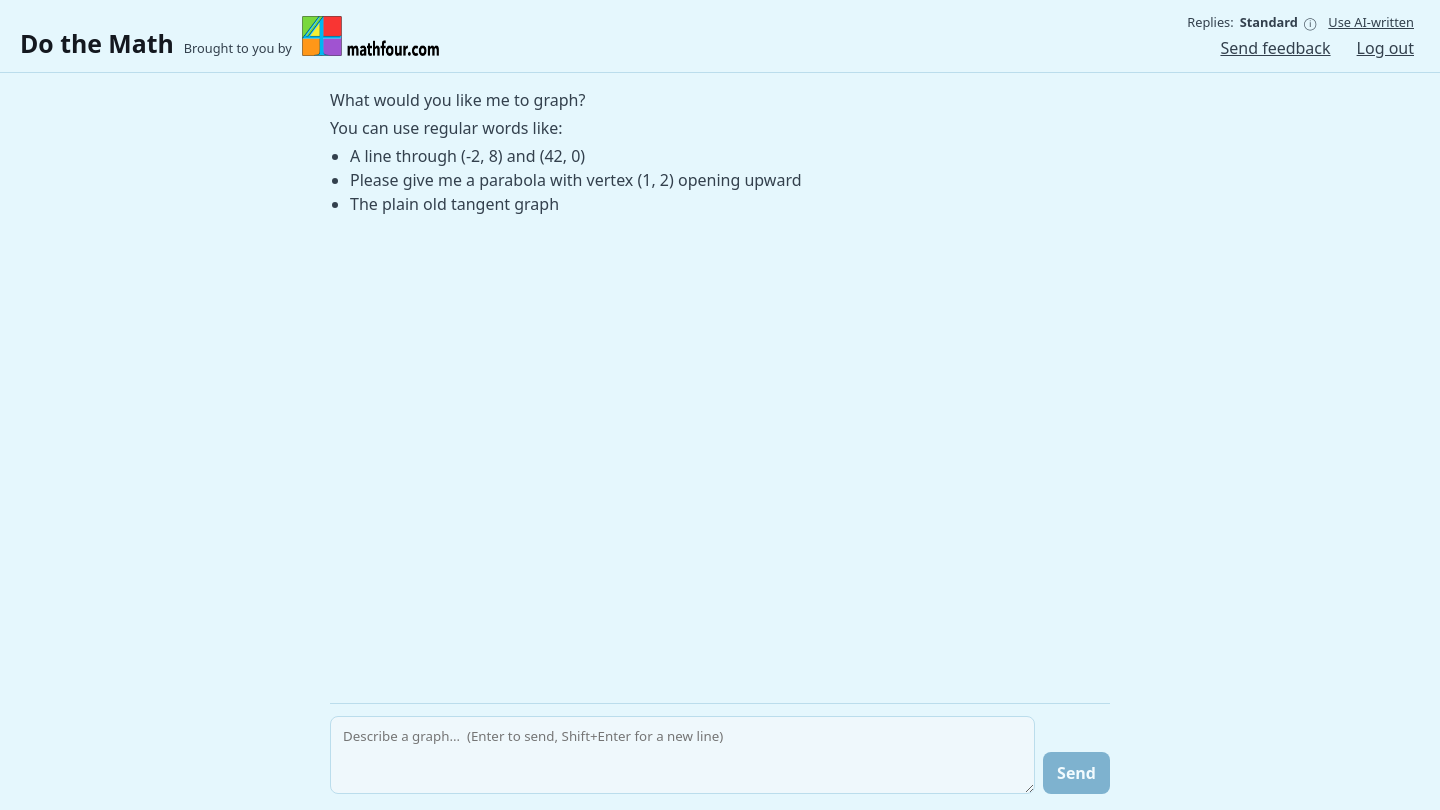
Scenario: App key gate › opens the reply-wording info popover on click and closes it again
The width and height of the screenshot is (1440, 810).
Click the button named "what does this mean": [1310, 23] box [1304,17,1316,29]
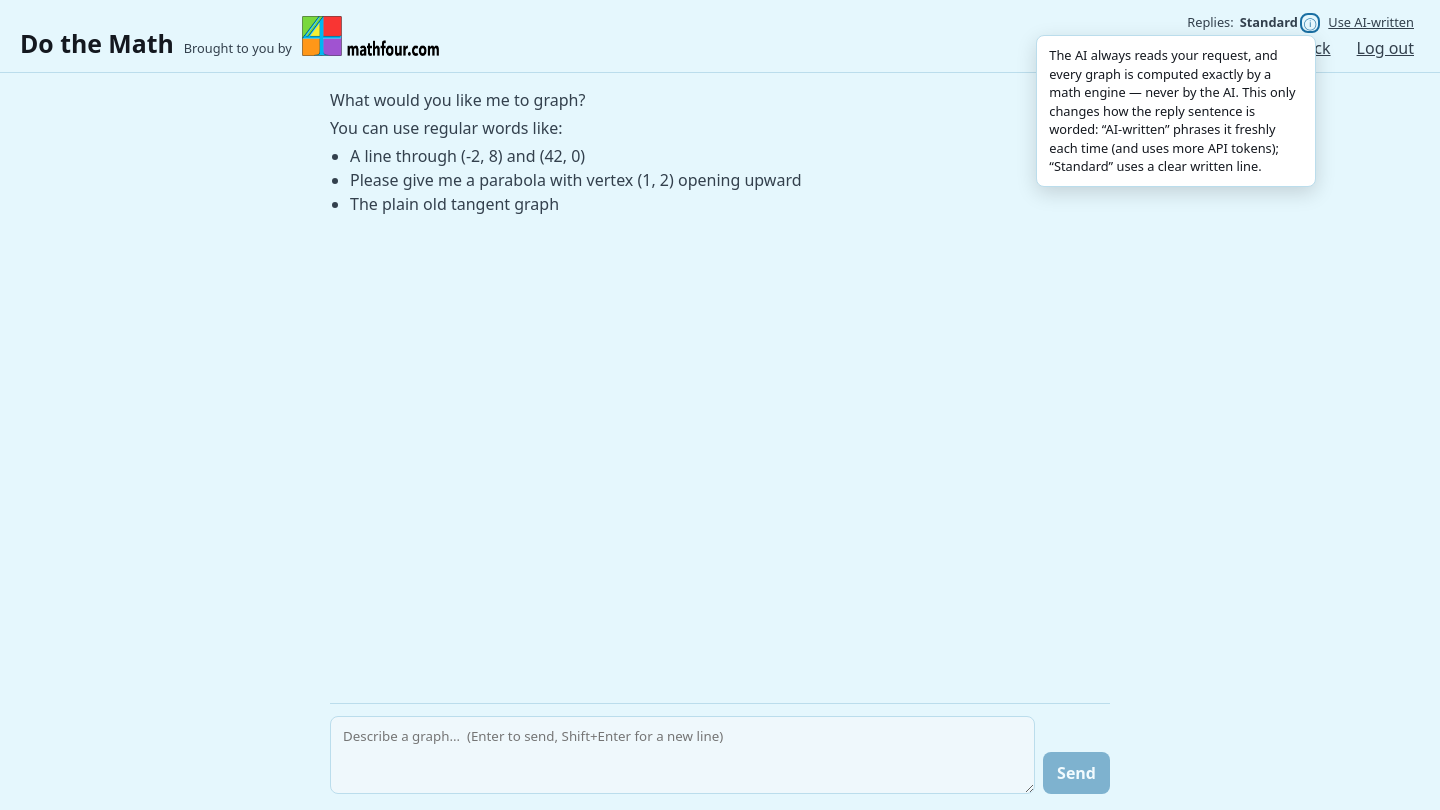
Now the tooltip shows "computed exactly", box [1049,46,1296,176]
Click the button named "what does this mean": [1310, 23] box [1304,17,1316,29]
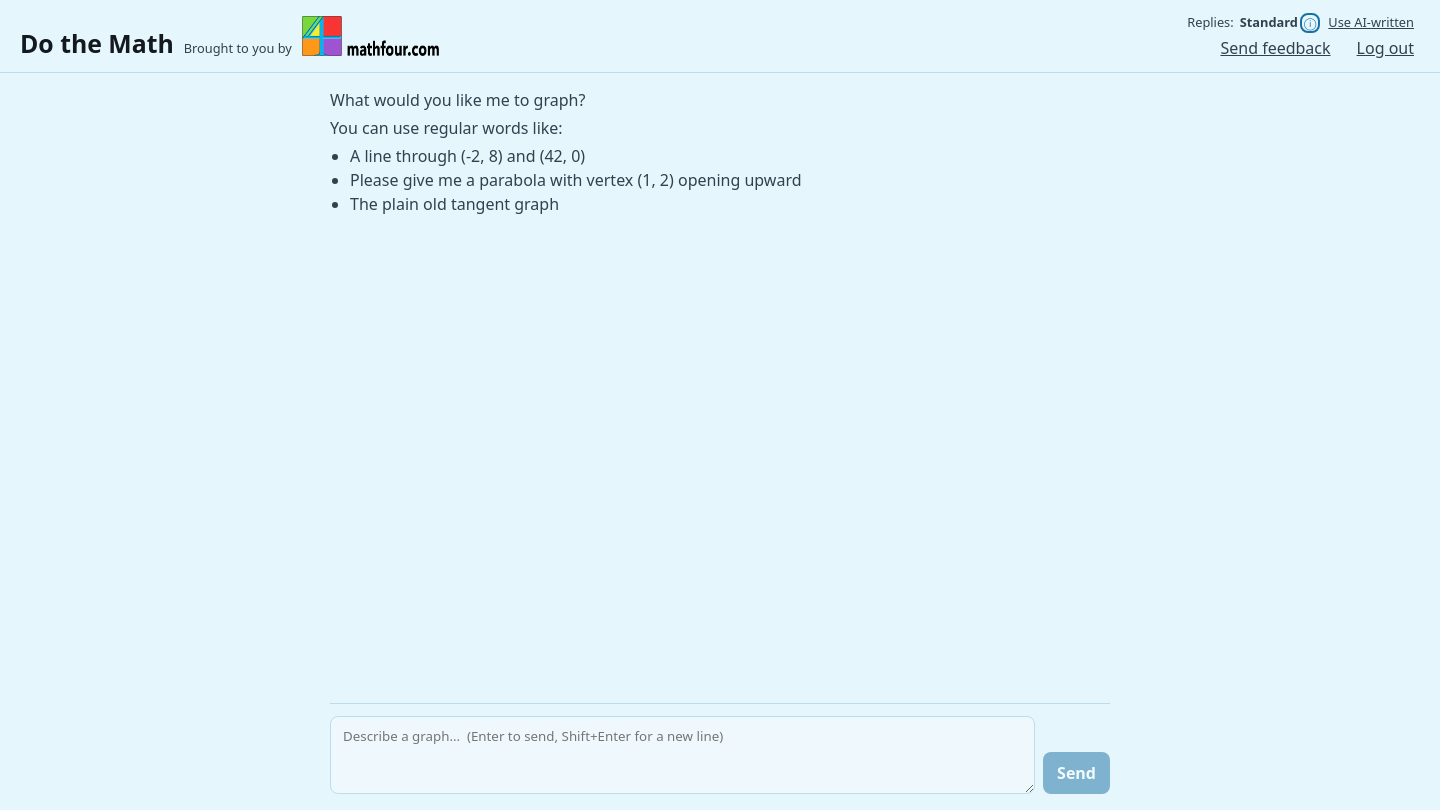
Now the tooltip "The AI always reads your request, and every graph is computed exactly by a math" is gone
